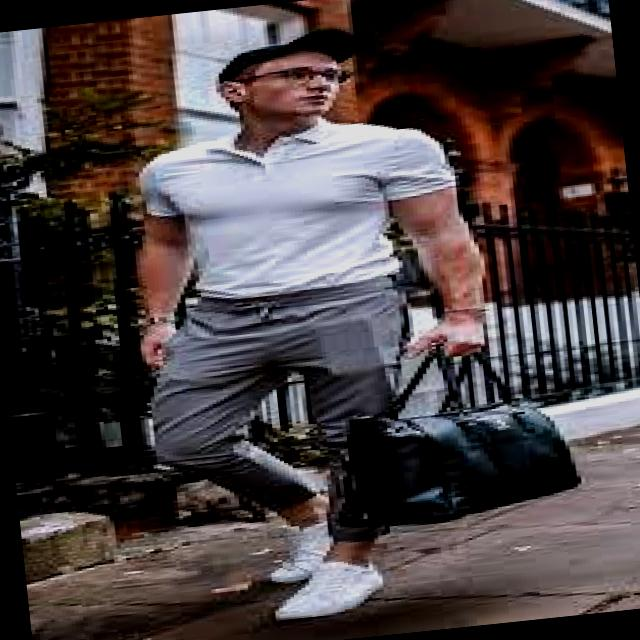face: (219, 50, 339, 118)
foot-wear: (274, 560, 382, 620), (267, 521, 332, 583)
hat: (218, 28, 358, 81)
lower-wear: (150, 277, 405, 511)
top-wear: (138, 119, 454, 298)
